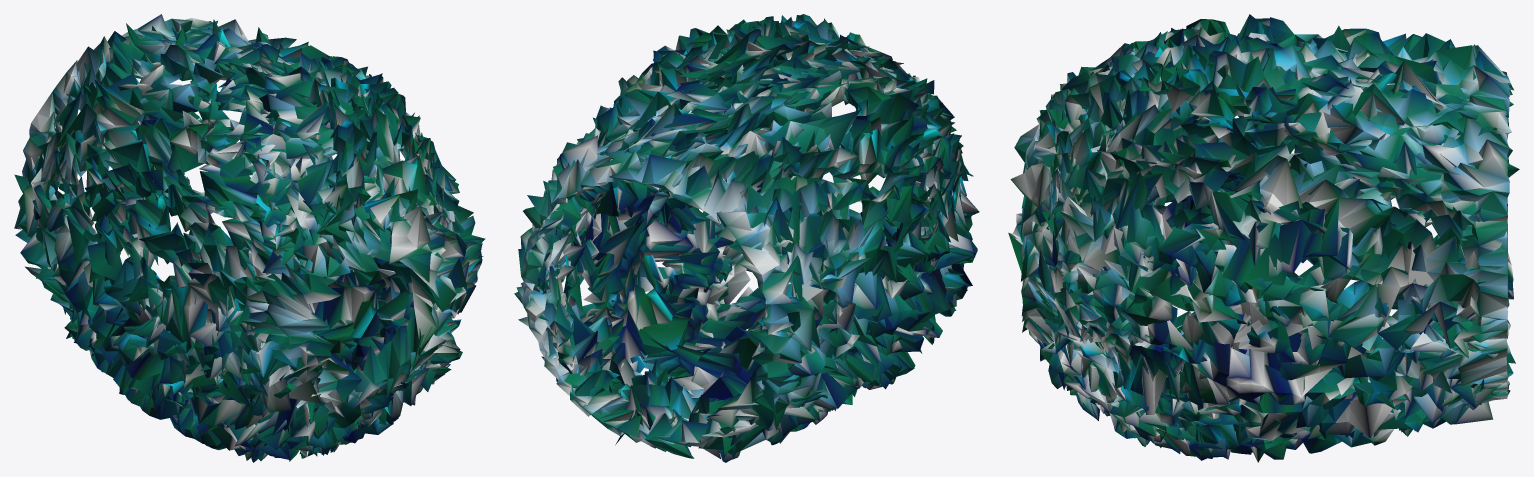
The model's file is lamp_shade_14_final500.obj.
3 views of the same model, side by side, from view 1: azimuth 30°, elevation 25°; view 2: azimuth 150°, elevation 25°; view 3: azimuth 270°, elevation 25° (orthographic). The views are drawn at different scales.
Bounding box in the file's own units: 1.37 × 1.37 × 1.58.
